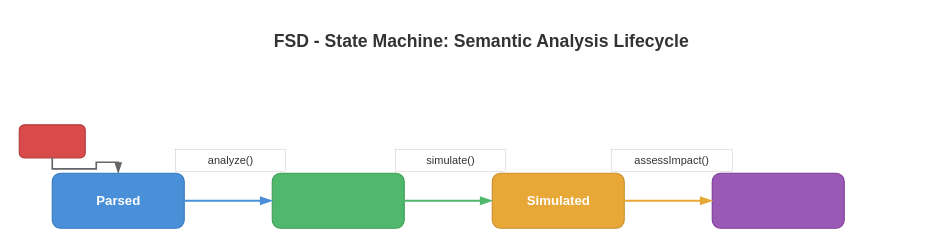
Some shapes in this 941 by 248 pixel diagram are drawn without their labels. Here are the shapes that lost their labels. From the top down, the centre of each, then its label:
the point at 51,141: Start
the point at 337,200: Analyzed
the point at 777,200: Impact Assessed
